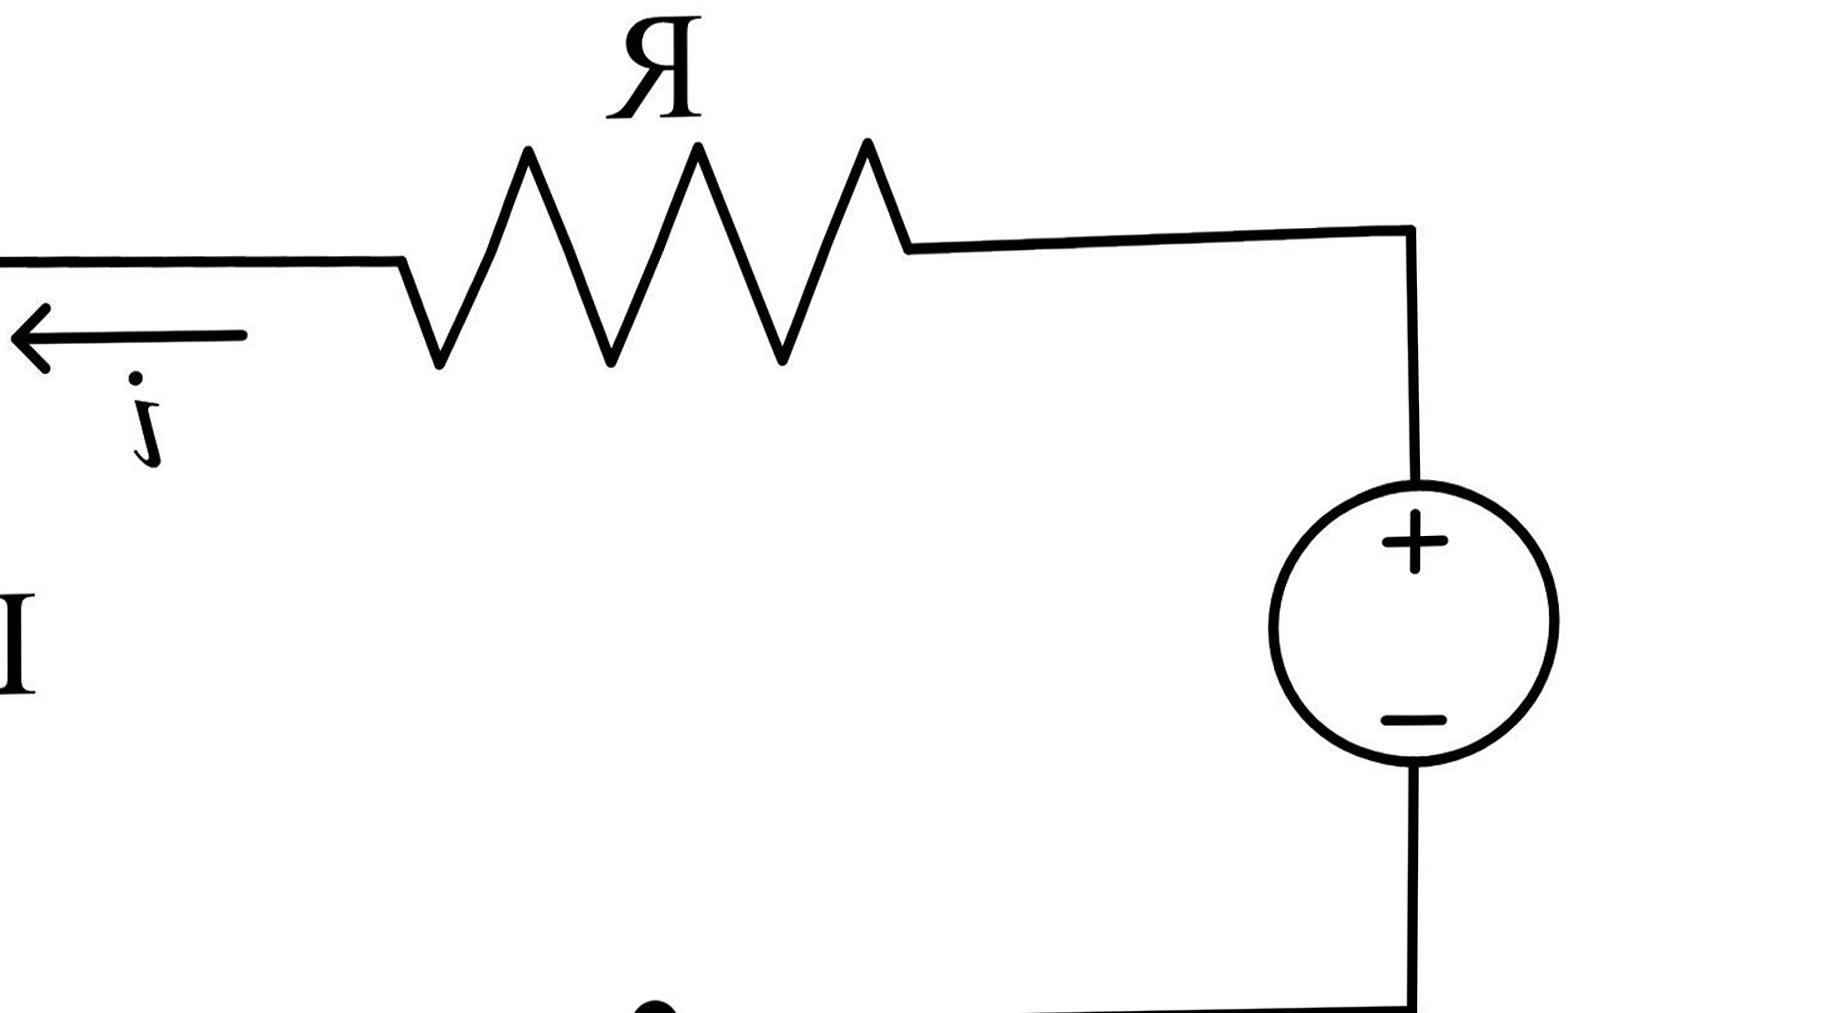Battery: (1202, 452, 1645, 818)
